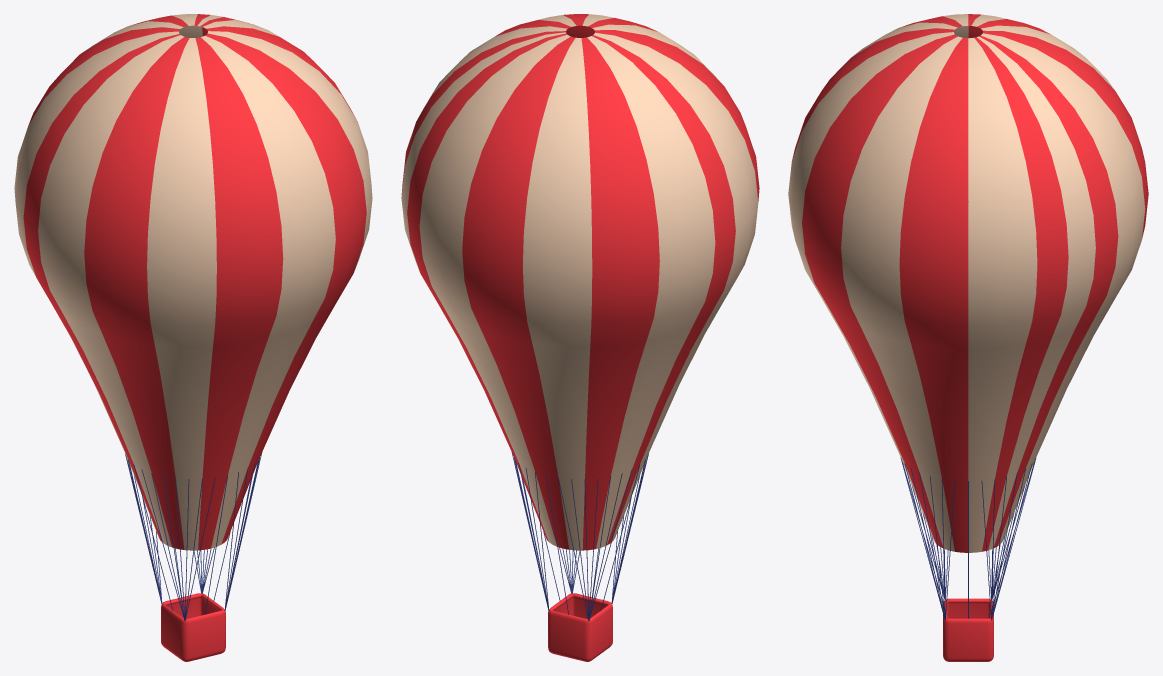
The model's file is globo.glb.
3 views of the same model, side by side, from view 1: azimuth 30°, elevation 25°; view 2: azimuth 150°, elevation 25°; view 3: azimuth 270°, elevation 25° (orthographic).
Parts seen in each view (by area): view 1: Cube.014; view 2: Cube.014; view 3: Cube.014.
Part boxes in pixels (left/top/right/bottom): Cube.014: left=14, top=14, right=372, bottom=661; Cube.014: left=401, top=14, right=759, bottom=661; Cube.014: left=788, top=14, right=1148, bottom=661.
Bounding box in the file's own units: 0.52 × 0.9889 × 0.52.
